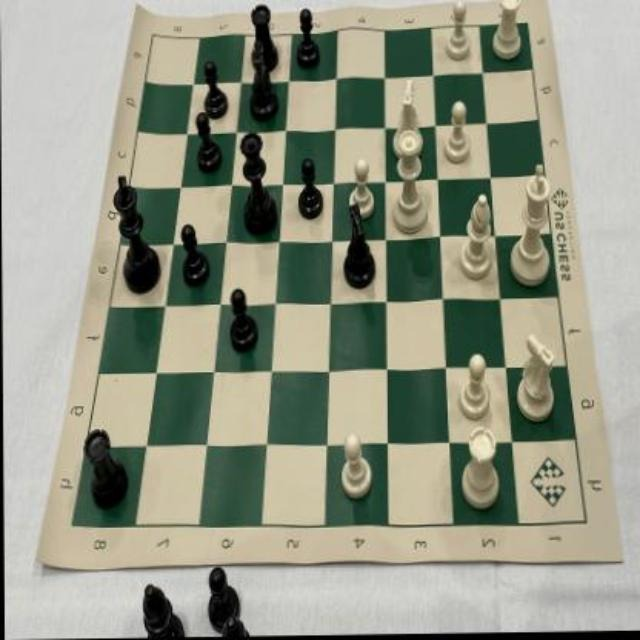black-king: (110, 170, 166, 299)
black-knight: (336, 202, 379, 292), (243, 42, 283, 125)
black-pawn: (224, 282, 260, 354), (178, 217, 210, 292), (291, 3, 323, 72), (294, 156, 327, 222), (193, 112, 223, 178), (200, 60, 229, 124)
black-queen: (235, 133, 282, 243)
black-rook: (81, 413, 130, 511), (249, 0, 282, 72)
white-bishop: (455, 190, 497, 286)
white-king: (508, 163, 560, 295)
white-pawn: (340, 429, 376, 507), (456, 350, 492, 425), (438, 99, 474, 171), (346, 155, 378, 223), (443, 0, 475, 64)
white-queen: (385, 129, 432, 238)
white-rook: (512, 329, 561, 427), (458, 423, 506, 515), (389, 73, 427, 160), (487, 0, 530, 64)
